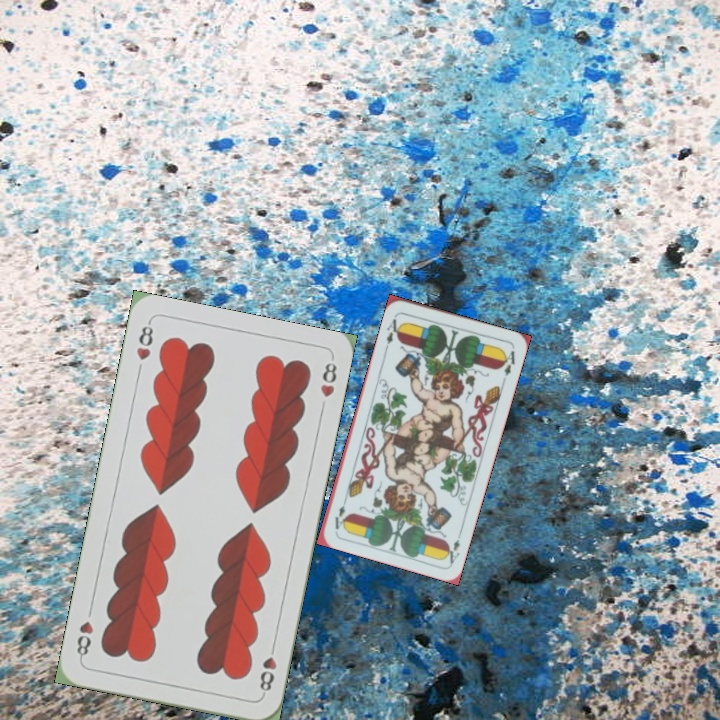EA: (441, 527, 464, 566), (382, 311, 404, 351)
H8: (255, 639, 279, 698), (132, 318, 156, 363)
